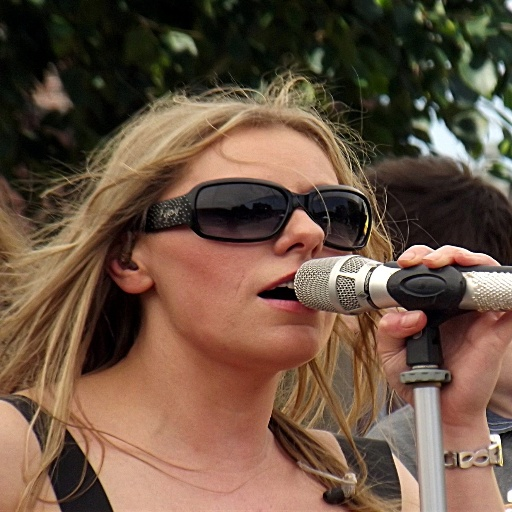hand: (370, 241, 511, 422)
